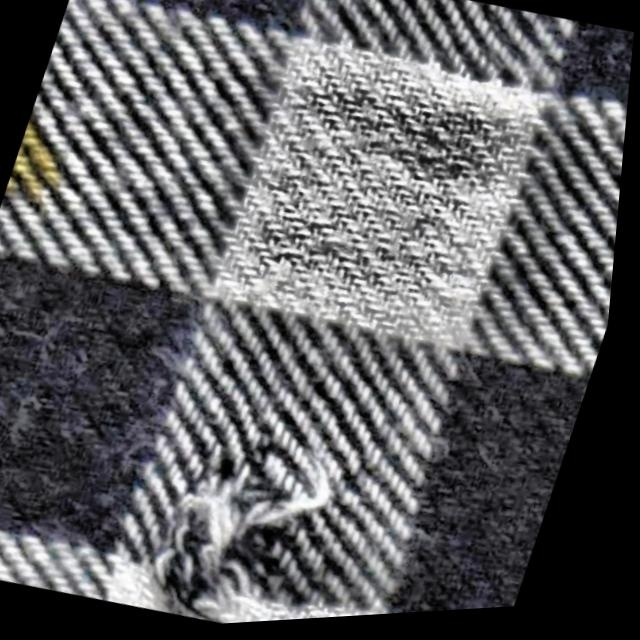Stitch: (116, 409, 375, 637)
